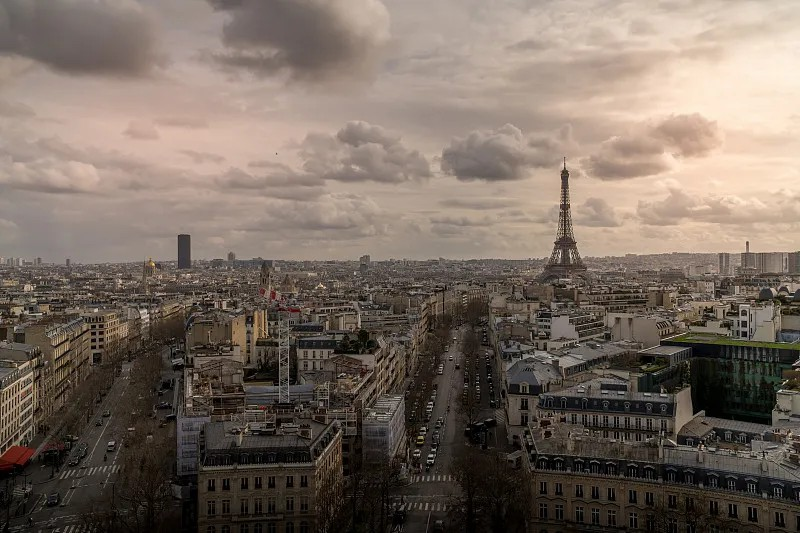Eiffel: (534, 157, 589, 284)
